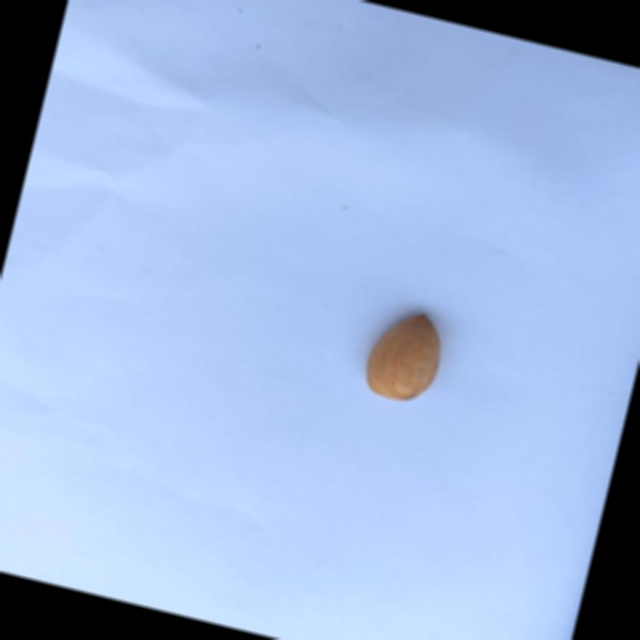grade2: (353, 300, 454, 412)
